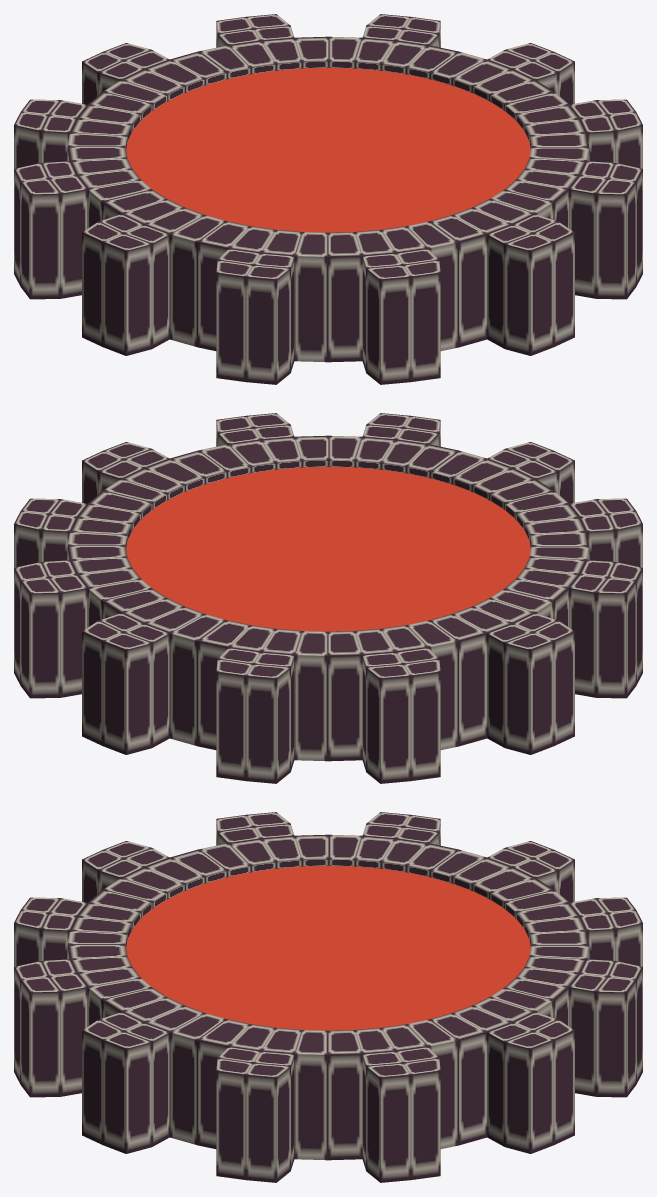
File: gear.obj
3 views of the same model, one above another, from view 1: azimuth 30°, elevation 25°; view 2: azimuth 150°, elevation 25°; view 3: azimuth 270°, elevation 25° (orthographic).
Parts seen in each view (by area): view 1: Gear.003_Gear.004; view 2: Gear.003_Gear.004; view 3: Gear.003_Gear.004.
Part boxes in pixels (x1,y1,x2,y2): Gear.003_Gear.004: (14, 14, 642, 384); Gear.003_Gear.004: (14, 413, 642, 783); Gear.003_Gear.004: (14, 812, 642, 1182).
Bounding box in the file's own units: 133 × 24.45 × 133.
